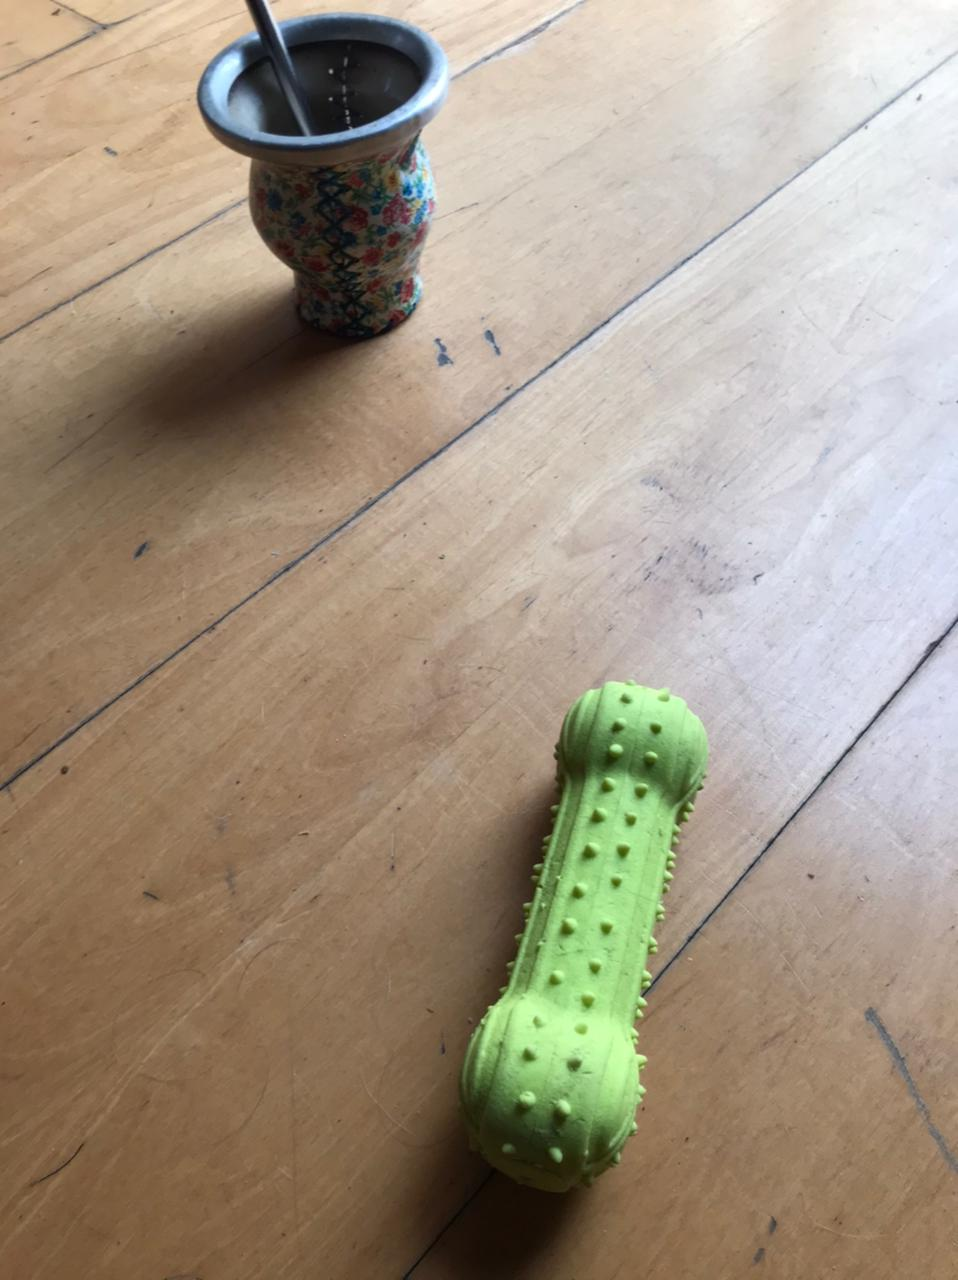mate: (190, 1, 462, 363)
